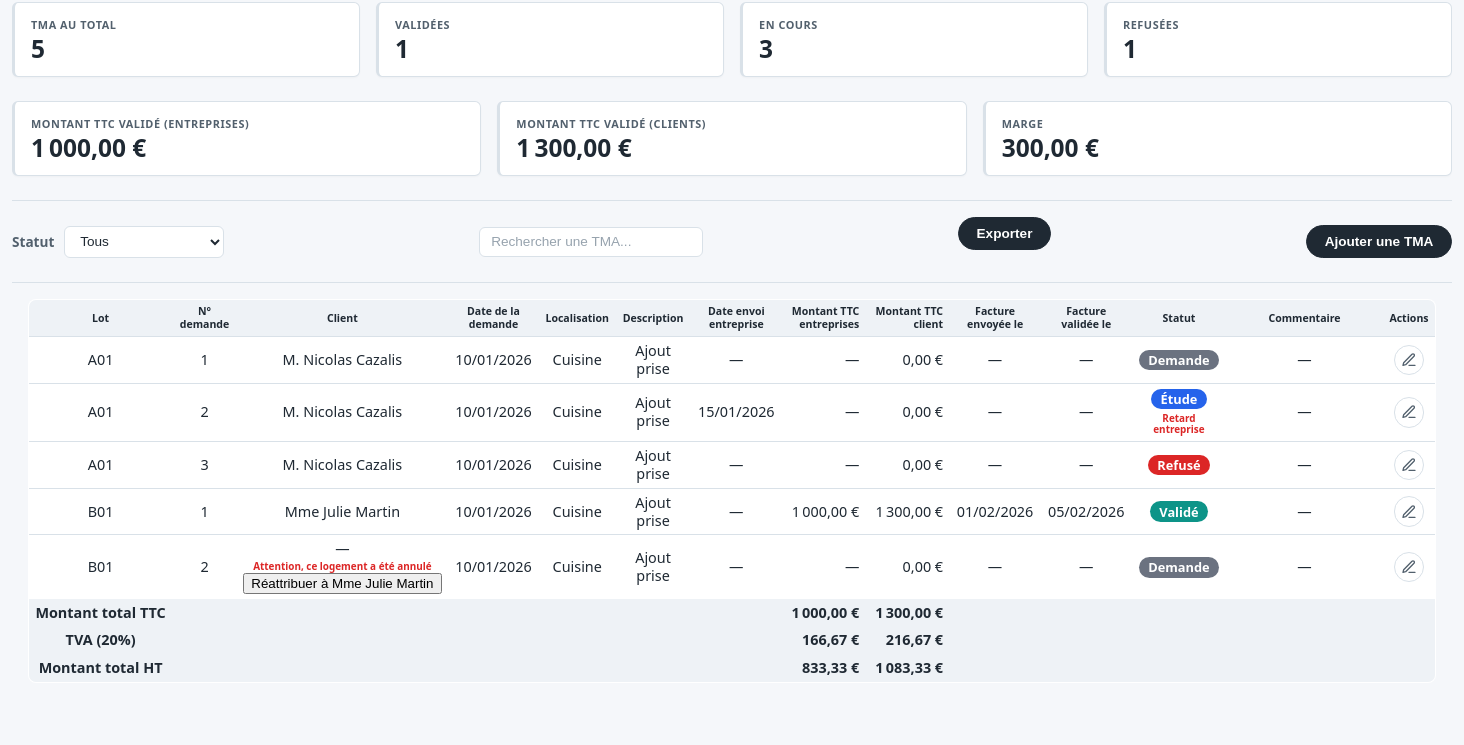
Test: Tma — transitions de statut › "Refuser la TMA" met à jour le badge de statut
The width and height of the screenshot is (1464, 745).
Note: Les boutons de transition vivent dans le panneau déplié, pas sur la ligne.
Click the 1st button named "Modifier" at coordinates (1409, 360), box [1394,345,1424,375]
(page scrolled)
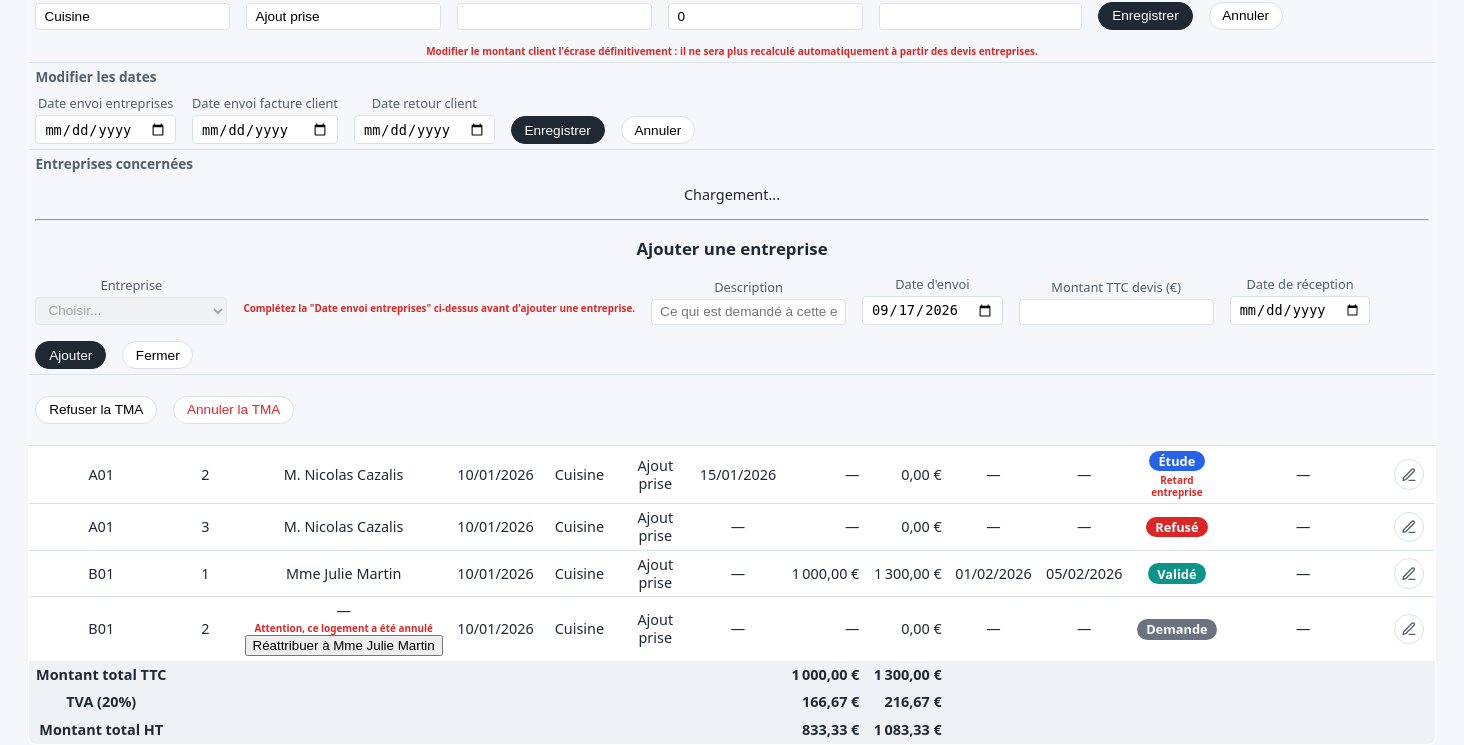
Click the button "Refuser la TMA" at coordinates (96, 410), box [35,396,157,424]
(page scrolled)
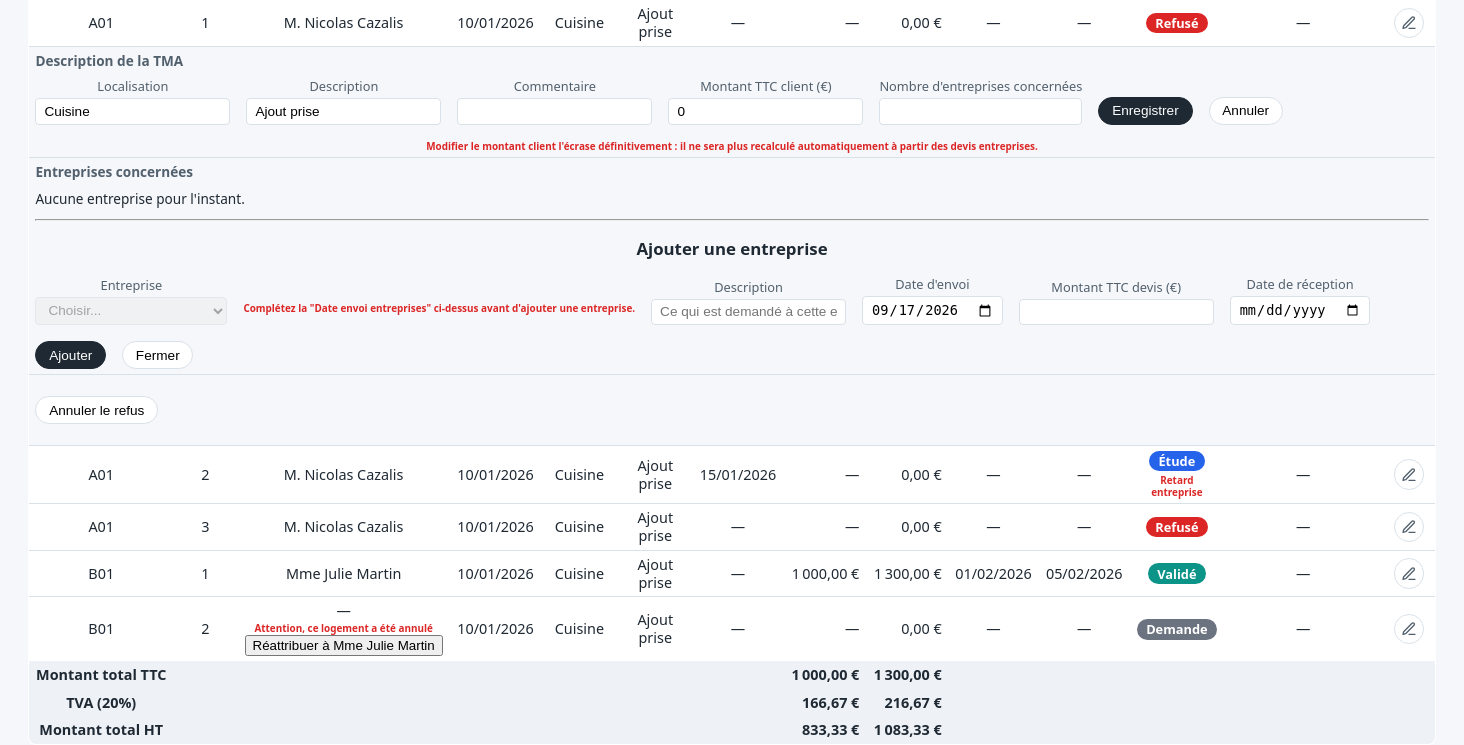
Check: the 1st text "Refusé" is shown, box [1146,13,1208,33]
